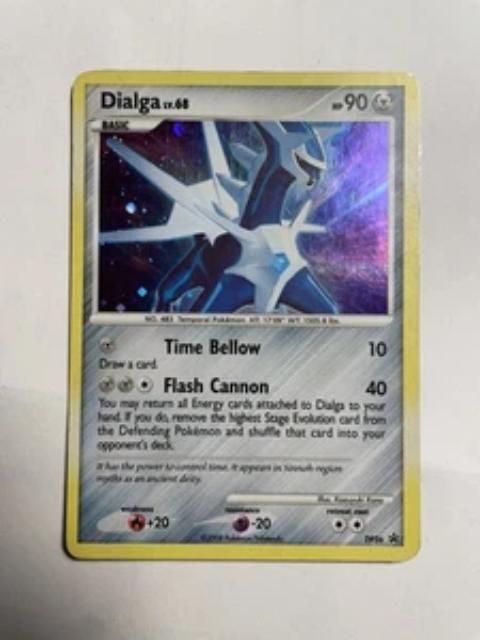Card: (61, 66, 425, 567)
Name: (98, 89, 164, 115)
